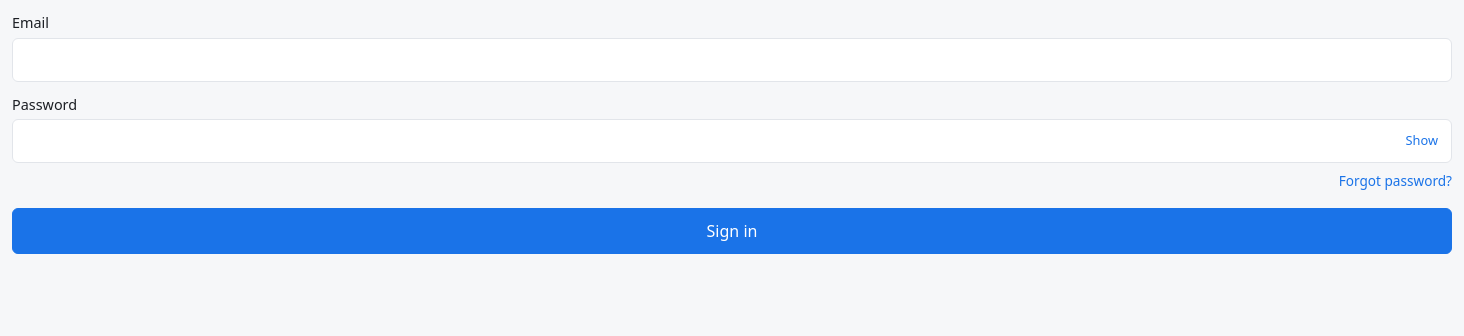
Test: EmailSignInForm › shows the right message for invalid_credentials and clears the password
In the field labelled "Email": (732, 60) top-left (12, 38), bottom-right (1452, 82), type "a@b.com"
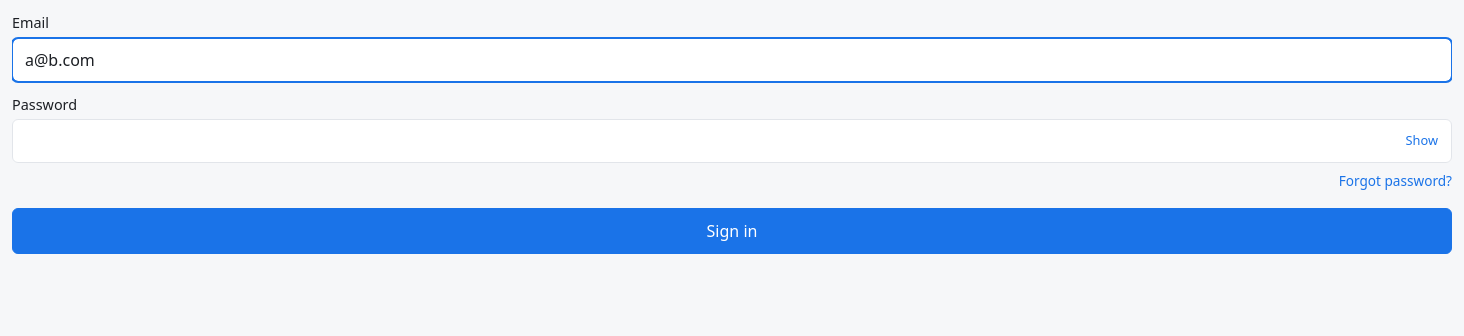
In the password field labelled "Password": (732, 141) top-left (12, 119), bottom-right (1452, 163), type "secret password"
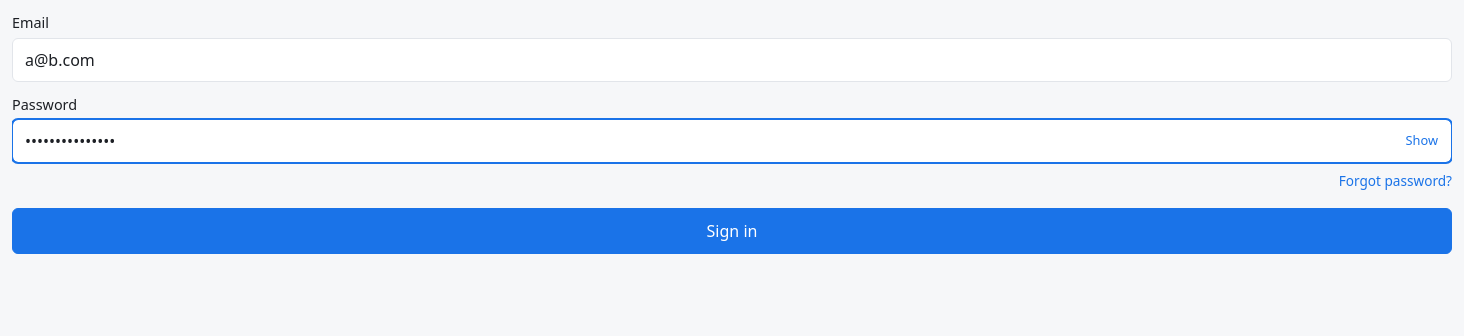
Click the button "Sign in": (732, 231) top-left (12, 208), bottom-right (1452, 254)
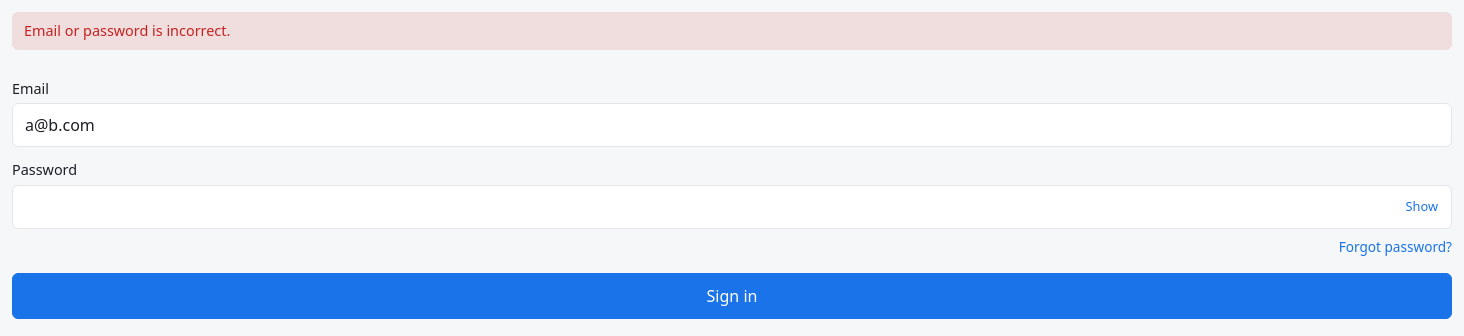
Expected: the button "Sign in" is enabled, top-left (12, 273), bottom-right (1452, 319)
Now the message reads "Email or password is incorrect.", box top-left (24, 21), bottom-right (230, 40)
Now the password field labelled "Password" is empty, box top-left (12, 185), bottom-right (1452, 229)
